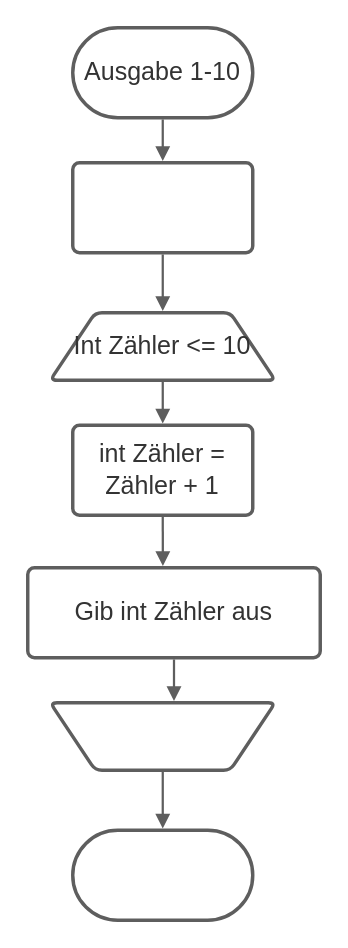
Some shapes in this 348 by 948 pixel diagram are drawn without their labels. Each missing label, with the centre of its shape:
"int Zähler = 0" goes at point (162, 207).
"Manuelle Operation" goes at point (162, 735).
